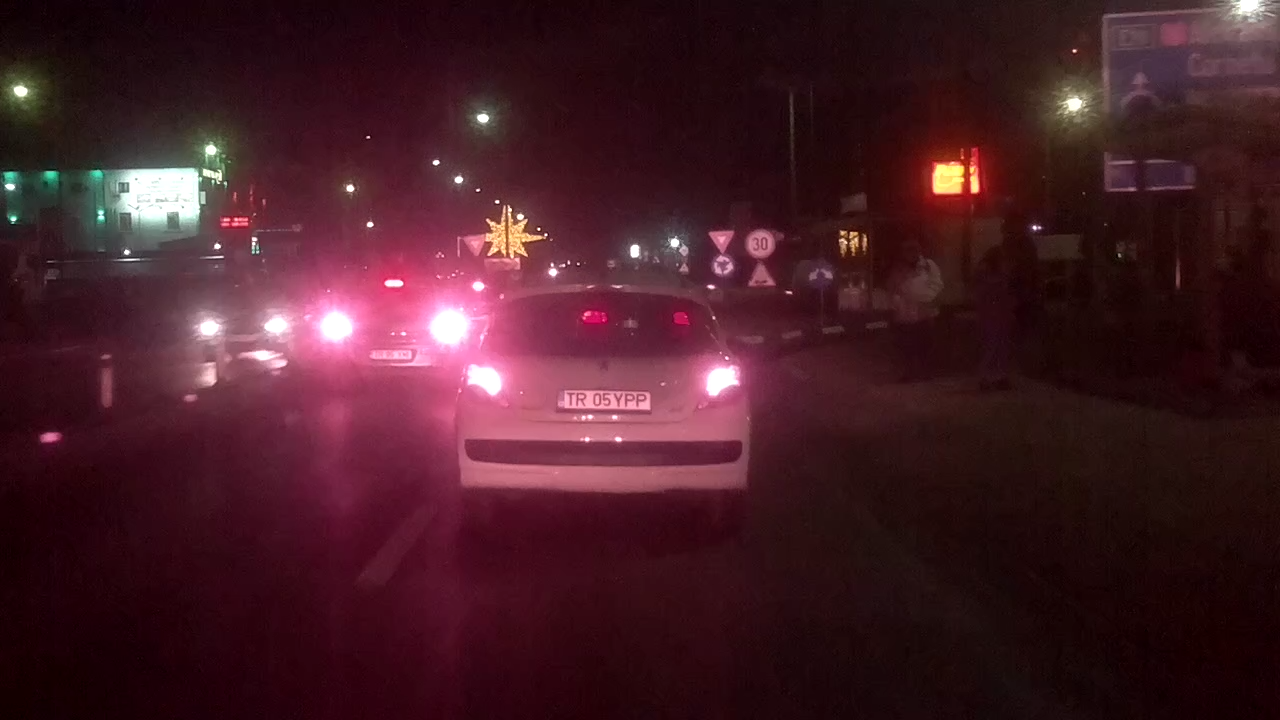license-plate: (552, 387, 655, 413)
